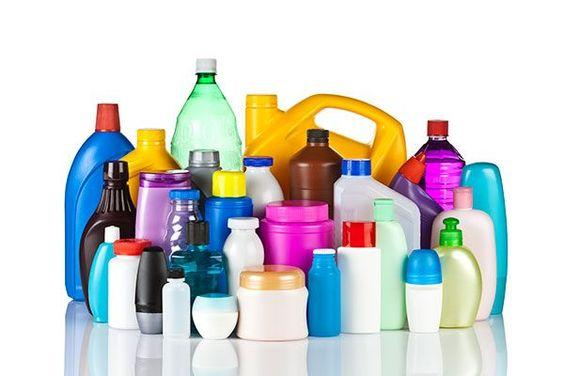HDPE: (433, 246, 484, 331), (236, 286, 310, 342), (337, 246, 382, 334), (375, 221, 411, 331), (307, 248, 342, 338), (135, 247, 168, 336), (107, 254, 142, 331), (191, 292, 240, 340), (405, 286, 443, 333), (237, 264, 306, 289), (265, 199, 329, 221), (406, 249, 442, 285), (396, 151, 428, 186), (340, 220, 377, 248), (138, 170, 193, 188), (212, 169, 247, 197), (95, 102, 121, 132), (439, 217, 464, 247), (184, 220, 210, 245), (136, 127, 166, 148), (340, 159, 372, 178), (188, 148, 220, 167), (245, 92, 279, 109), (102, 160, 129, 181), (372, 198, 394, 221), (452, 186, 474, 208), (226, 216, 260, 230), (426, 118, 449, 137), (167, 189, 201, 201), (194, 57, 217, 74), (305, 128, 330, 143), (242, 155, 273, 167), (103, 224, 120, 244)
PETE: (171, 245, 225, 293)
PP: (161, 278, 192, 340)
